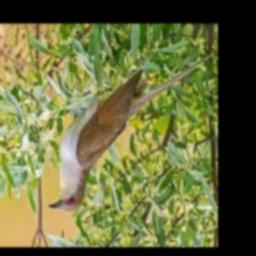Cuckoo: (47, 54, 212, 211)
